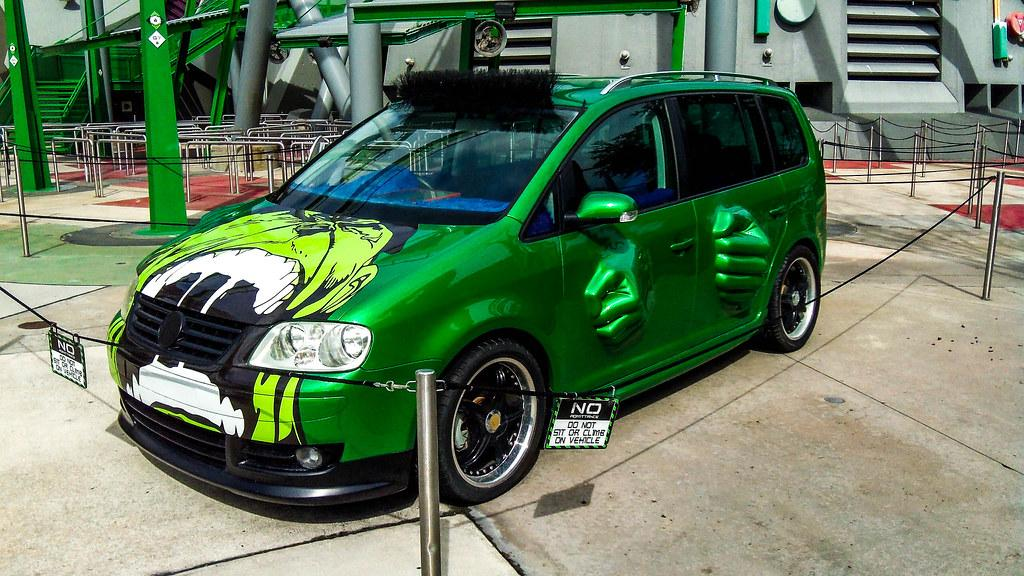car: (106, 69, 829, 509)
